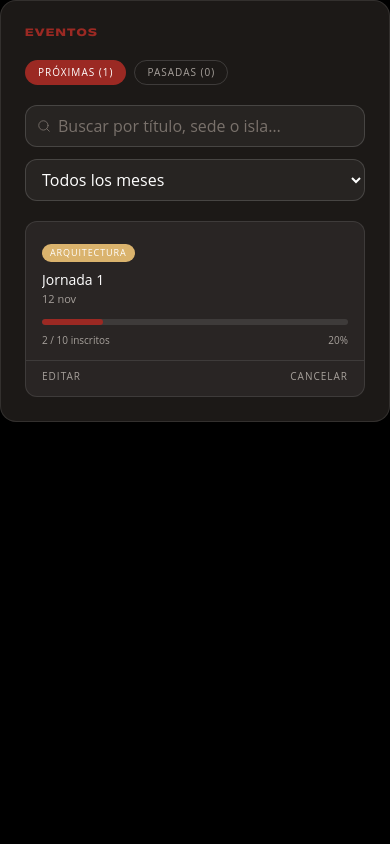
ControlAsistentes — quitar a un inscrito › móvil: Gestionar → Quitar → confirmar en la barra de abajo quita a esa persona
Click the text "Jornada 1": (73, 279) [42,270,104,288]
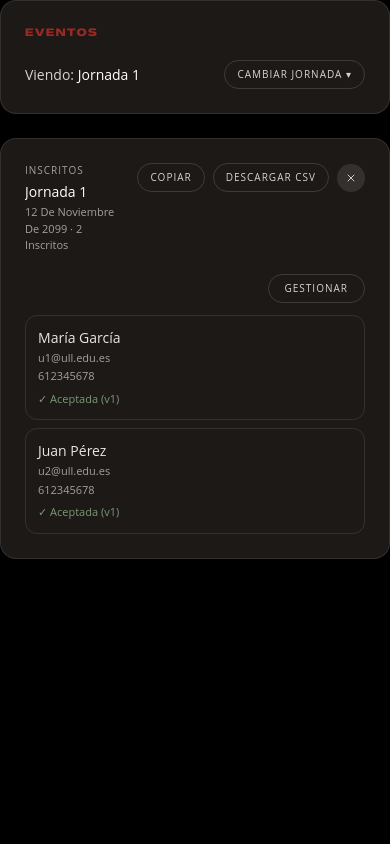
Click the button "Gestionar": (316, 288) [268,274,365,302]
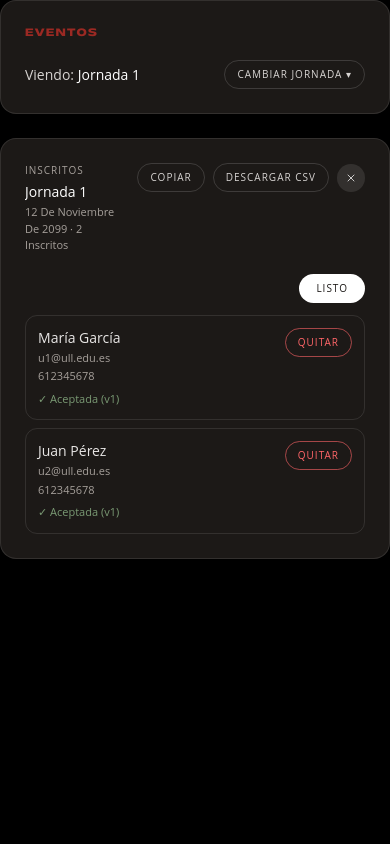
Click the button with aria-label "Quitar a Juan Pérez": (318, 456) [285,441,352,470]
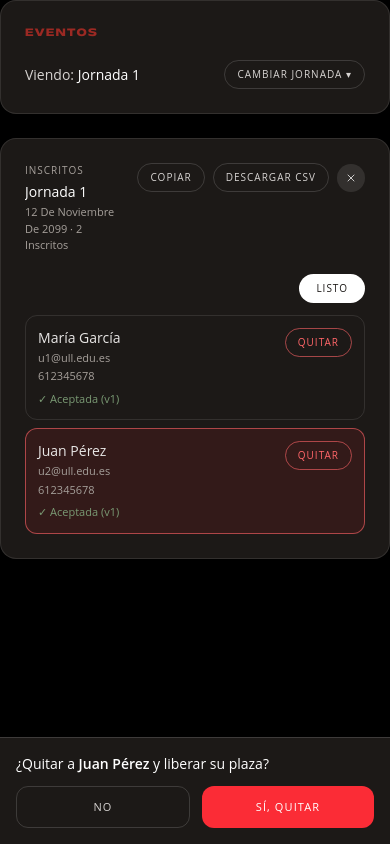
Check: the text "¿Quitar a Juan Pérez y liberar su plaza?" is shown, box [16,754,269,772]
Click the button "Sí, quitar": (288, 807) [202,786,374,828]
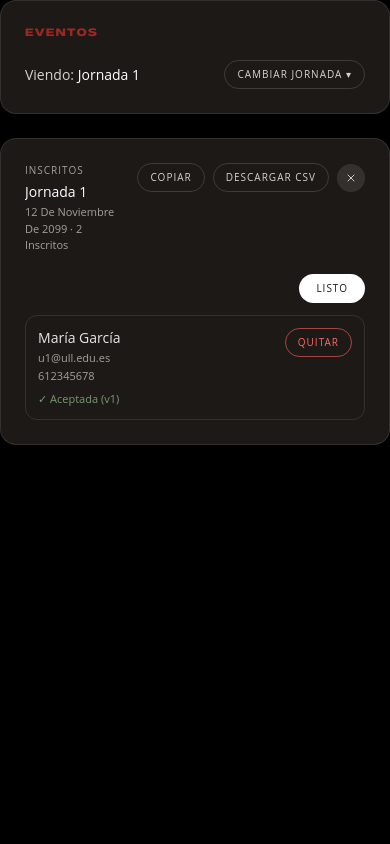
Check: the text "Juan Pérez" is not shown
